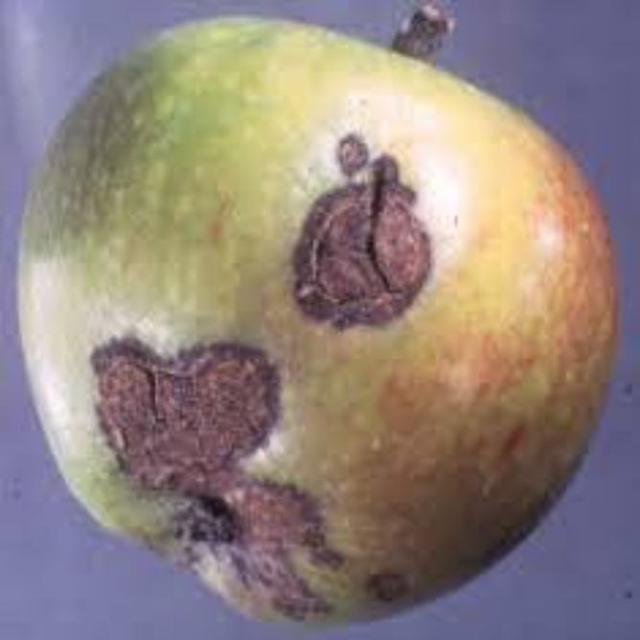Rotten Apple: (42, 24, 578, 619)
